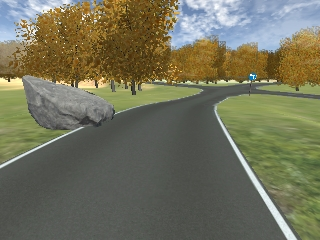left: (247, 73, 256, 82)
